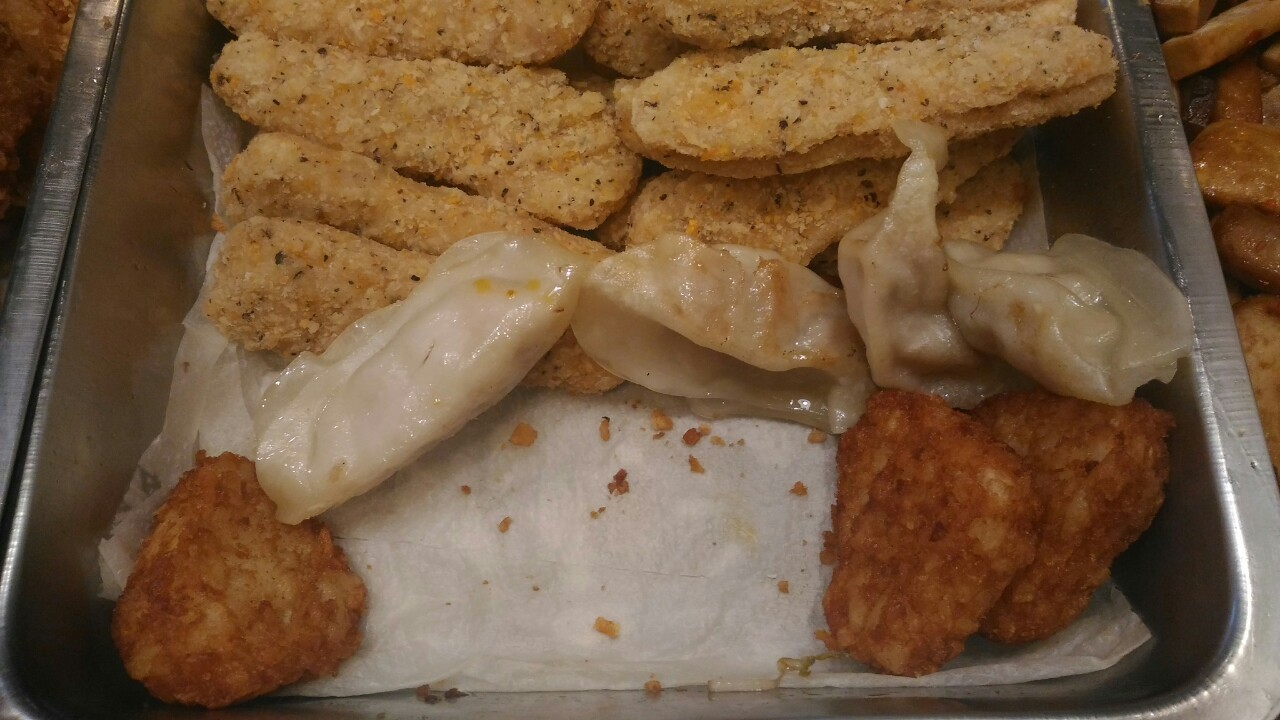fried_dumplings: (256, 239, 1172, 437)
triangle_hash_brown: (835, 388, 1184, 673), (101, 445, 381, 705)
